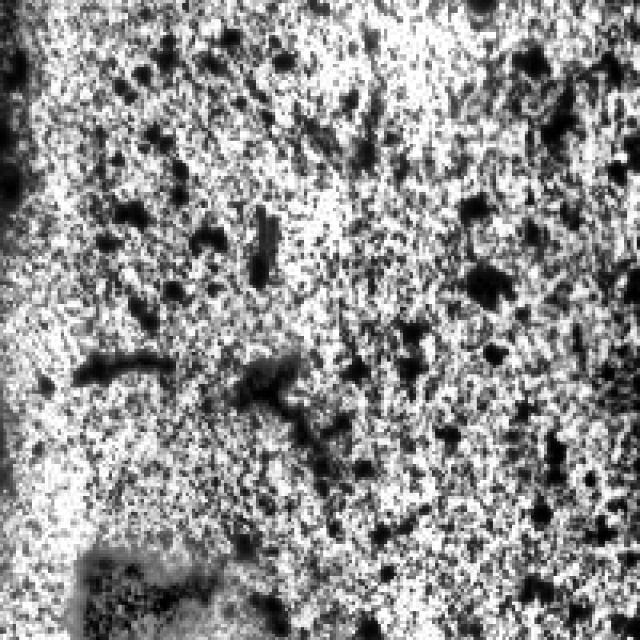Rolled_in_Scale: (22, 16, 352, 512)
Scratches: (61, 544, 230, 637)
